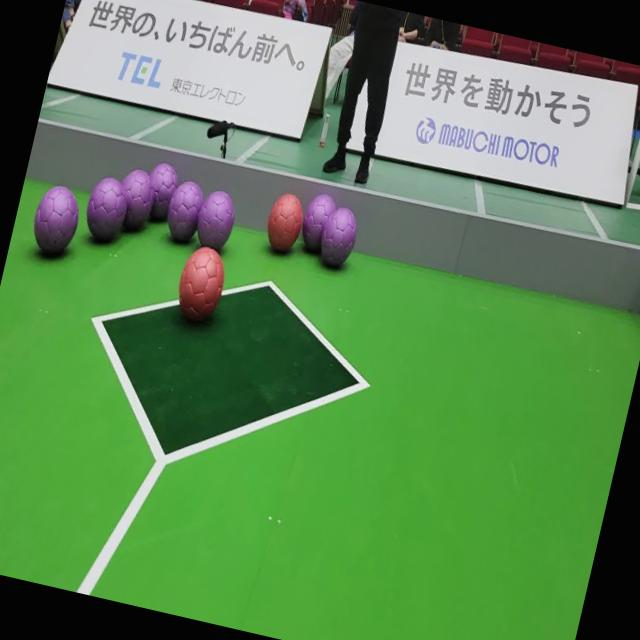purple_ball: (26, 182, 86, 262), (312, 202, 362, 274), (80, 174, 132, 242), (111, 165, 158, 238), (192, 185, 241, 249), (162, 180, 206, 244), (142, 160, 184, 226), (297, 192, 339, 256)
red_ball: (170, 244, 232, 329), (260, 190, 309, 258)
